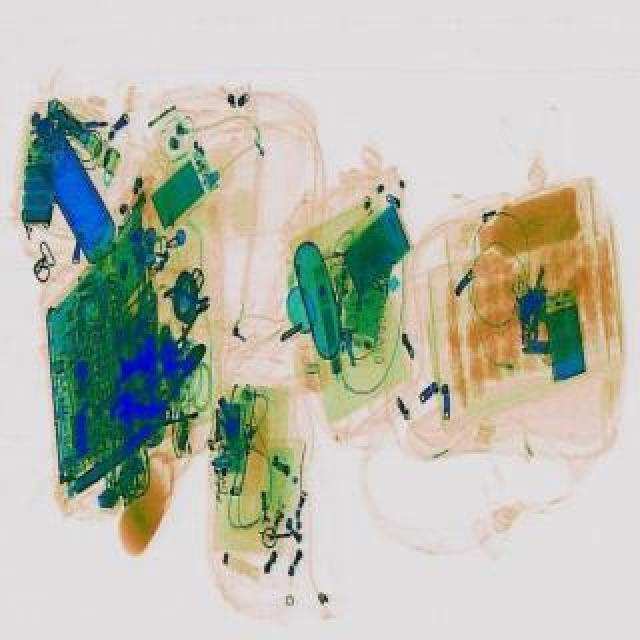scissors: (110, 394, 170, 424)
wrench: (138, 332, 218, 408), (156, 274, 220, 338)
